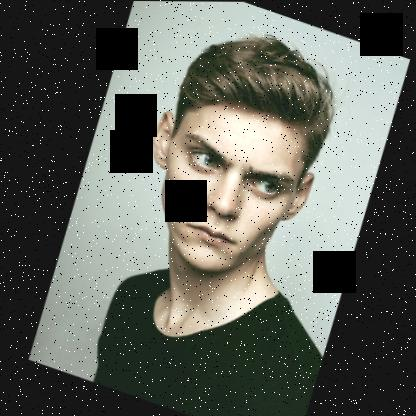Male: (113, 81, 330, 296)
